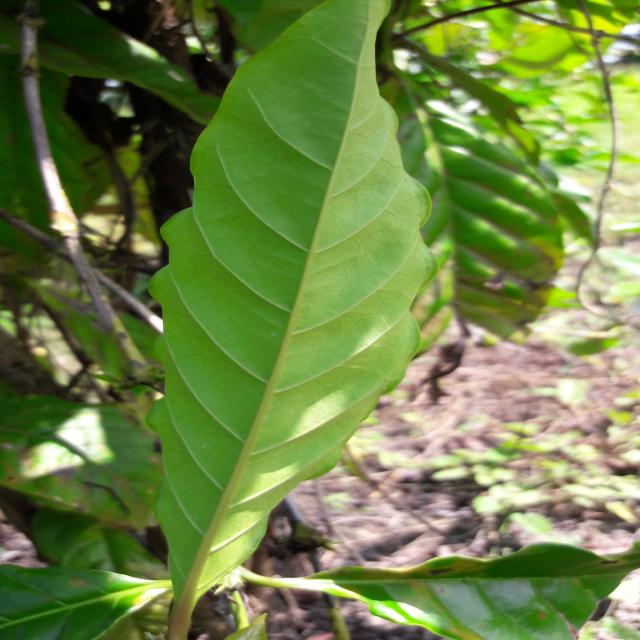Sanas: (149, 0, 436, 640)
